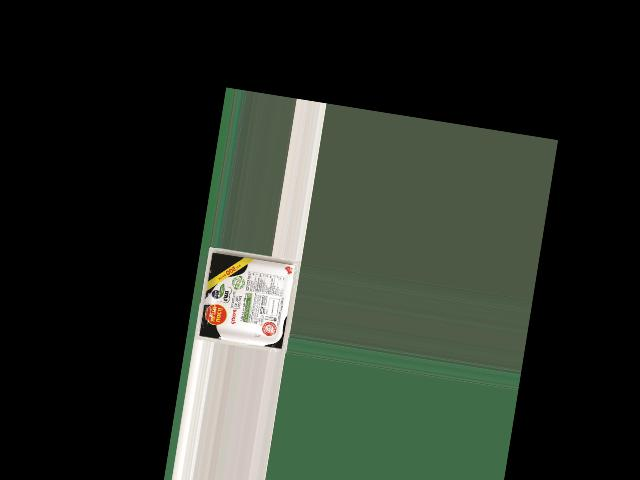cheese: (201, 248, 293, 349)
